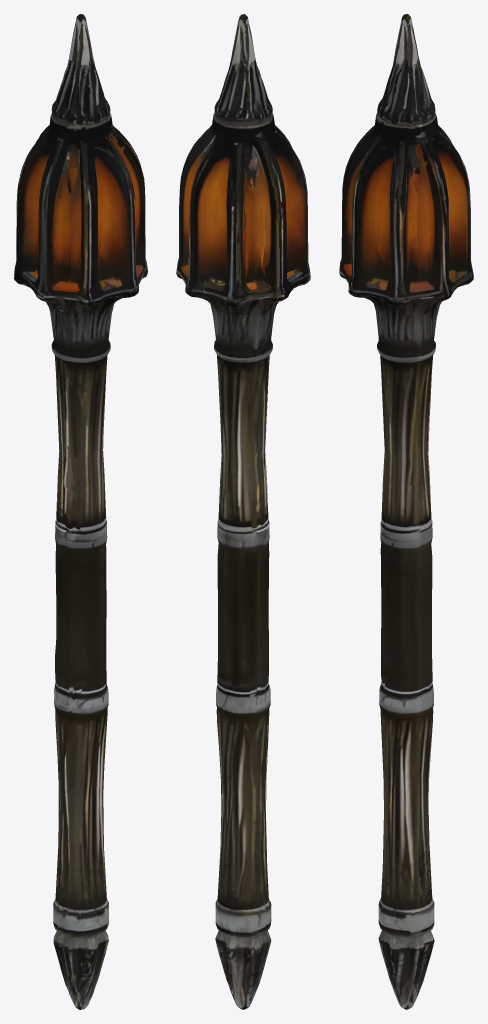
The model's file is runed_staff.glb.
The picture shows the model from 3 angles, left to right: view 1: azimuth 30°, elevation 25°; view 2: azimuth 150°, elevation 25°; view 3: azimuth 330°, elevation 25°; orthographic projection.
Visible parts, largest first — view 1: RunedStaff; view 2: RunedStaff; view 3: RunedStaff.
Part boxes in pixels (bbox=[...]): RunedStaff: bbox=[14, 14, 147, 1009]; RunedStaff: bbox=[176, 14, 310, 1009]; RunedStaff: bbox=[339, 14, 473, 1009].
Bounding box in the file's own units: 0.2221 × 1.92 × 0.2316.
1 material, 1 textured.
